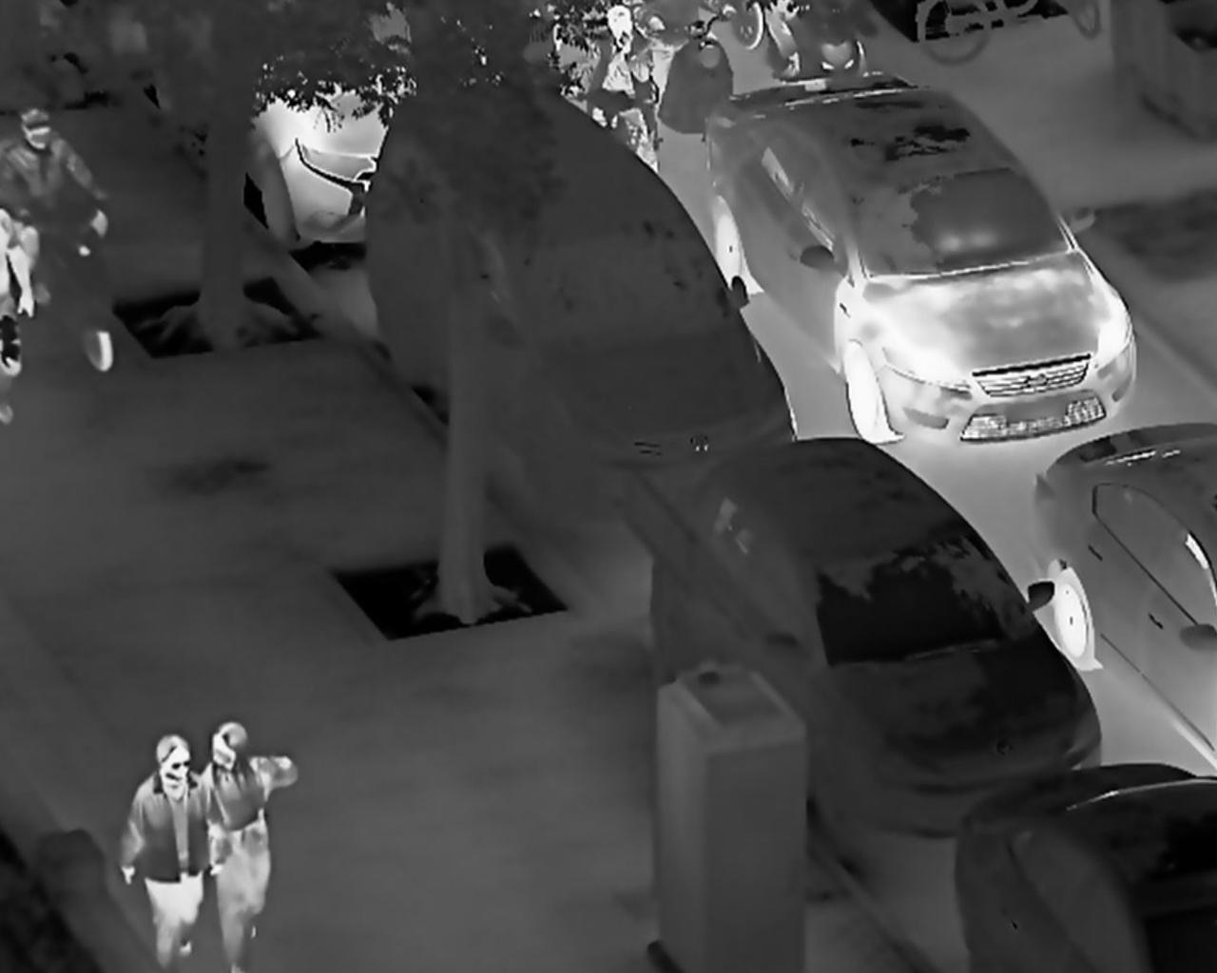person: (195, 717, 300, 973), (113, 731, 208, 973)
